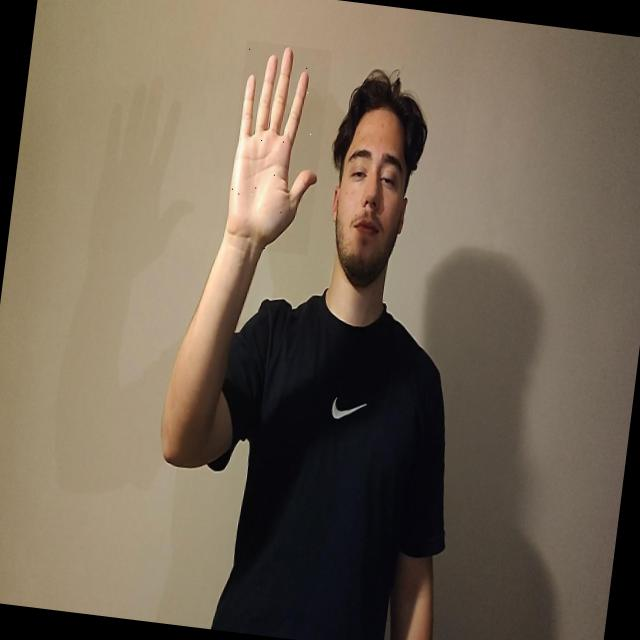hello: (221, 40, 332, 255)
